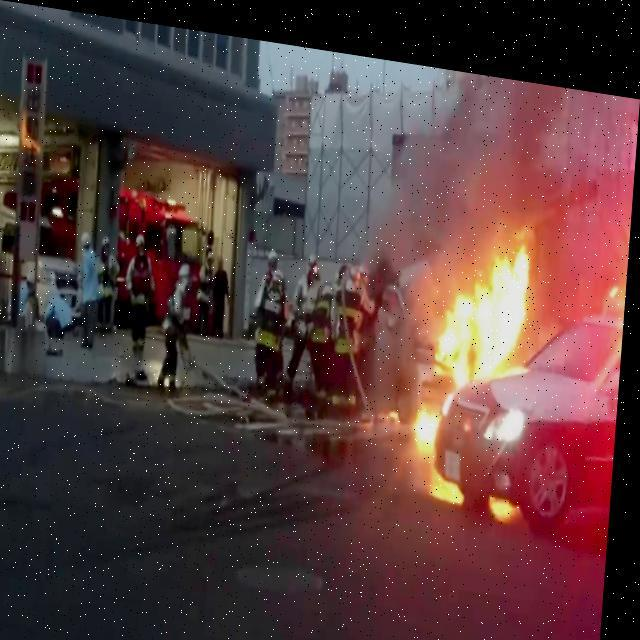Fire: (439, 212, 542, 374), (419, 366, 462, 446), (432, 452, 472, 491), (494, 479, 522, 504)
